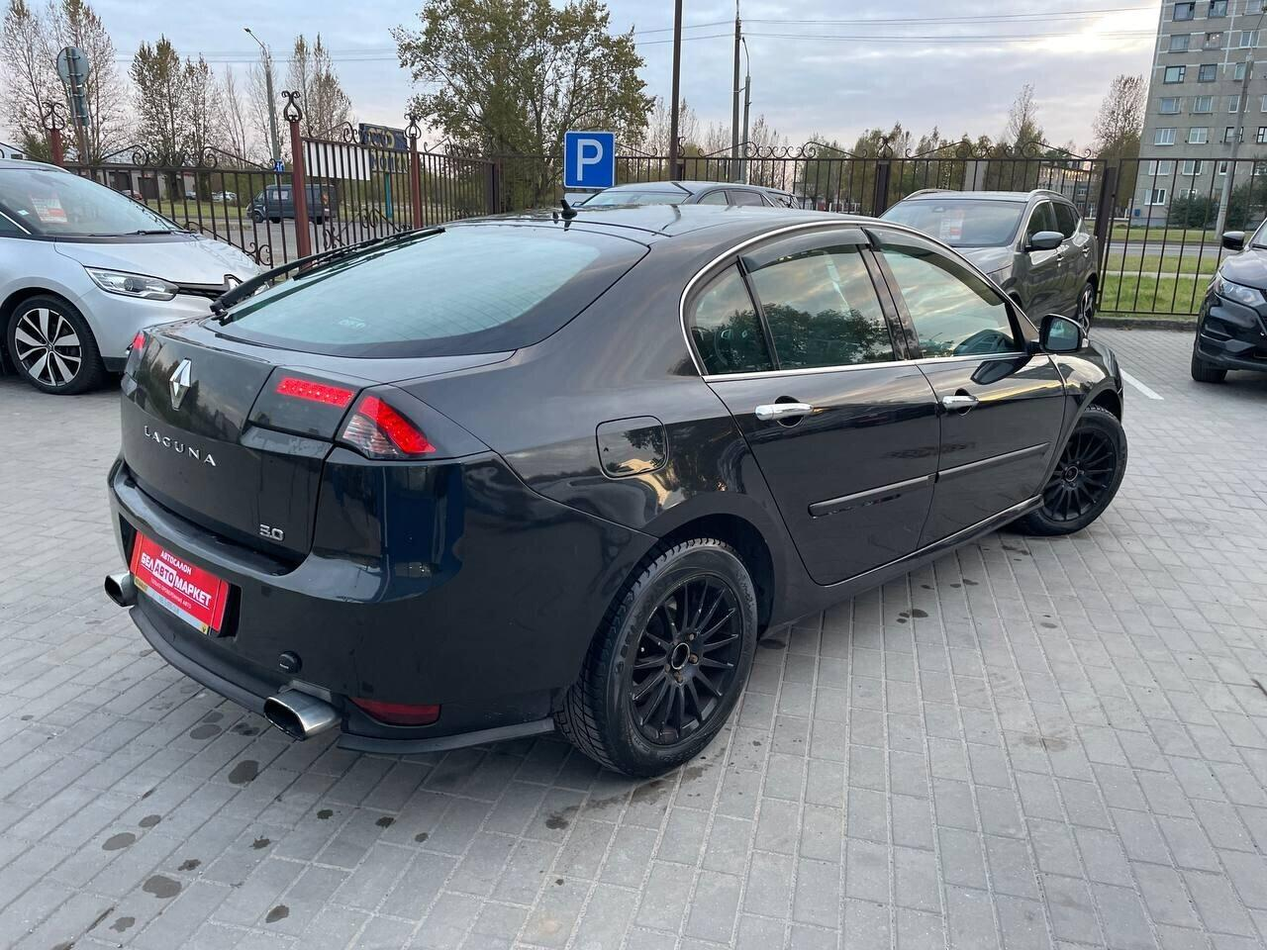Laguna_2010-2015: (95, 199, 1126, 776)
